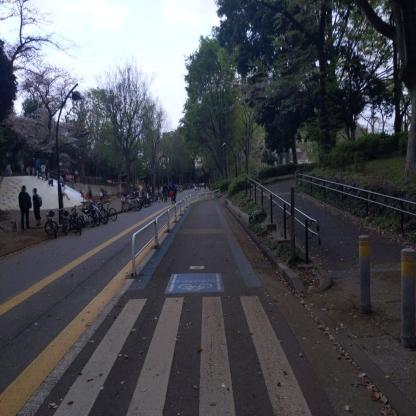Someiyoshino: (0, 1, 93, 176)
